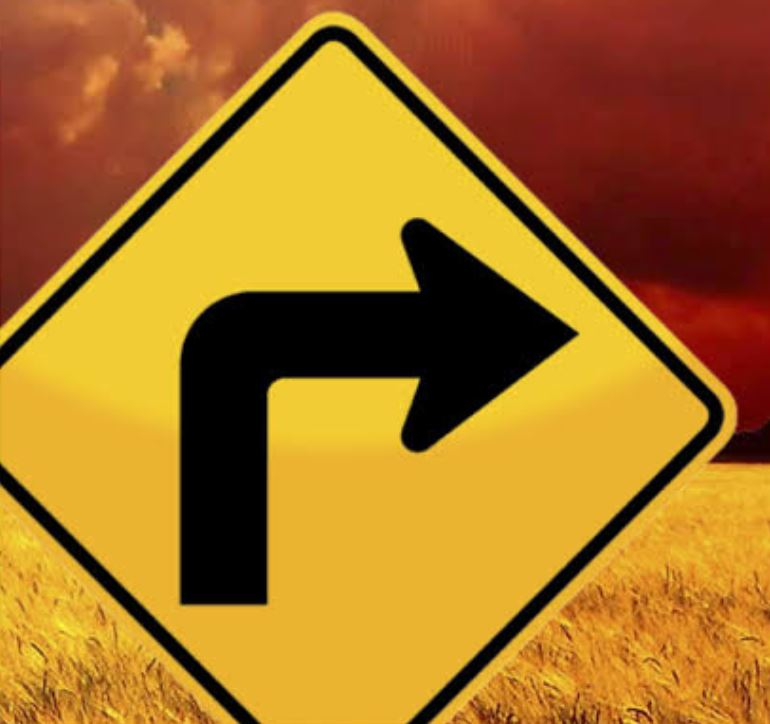right: (151, 42, 659, 631), (291, 3, 648, 659), (429, 124, 745, 514), (273, 20, 595, 363), (278, 164, 651, 456), (288, 253, 491, 460), (415, 293, 635, 429), (369, 180, 529, 354)
